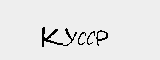Г: (82, 17, 96, 31)
Ж: (113, 19, 138, 38)
Ч: (16, 16, 35, 36)
Э: (57, 15, 80, 33)
Я: (33, 16, 56, 33)
Ң: (97, 17, 116, 39)
